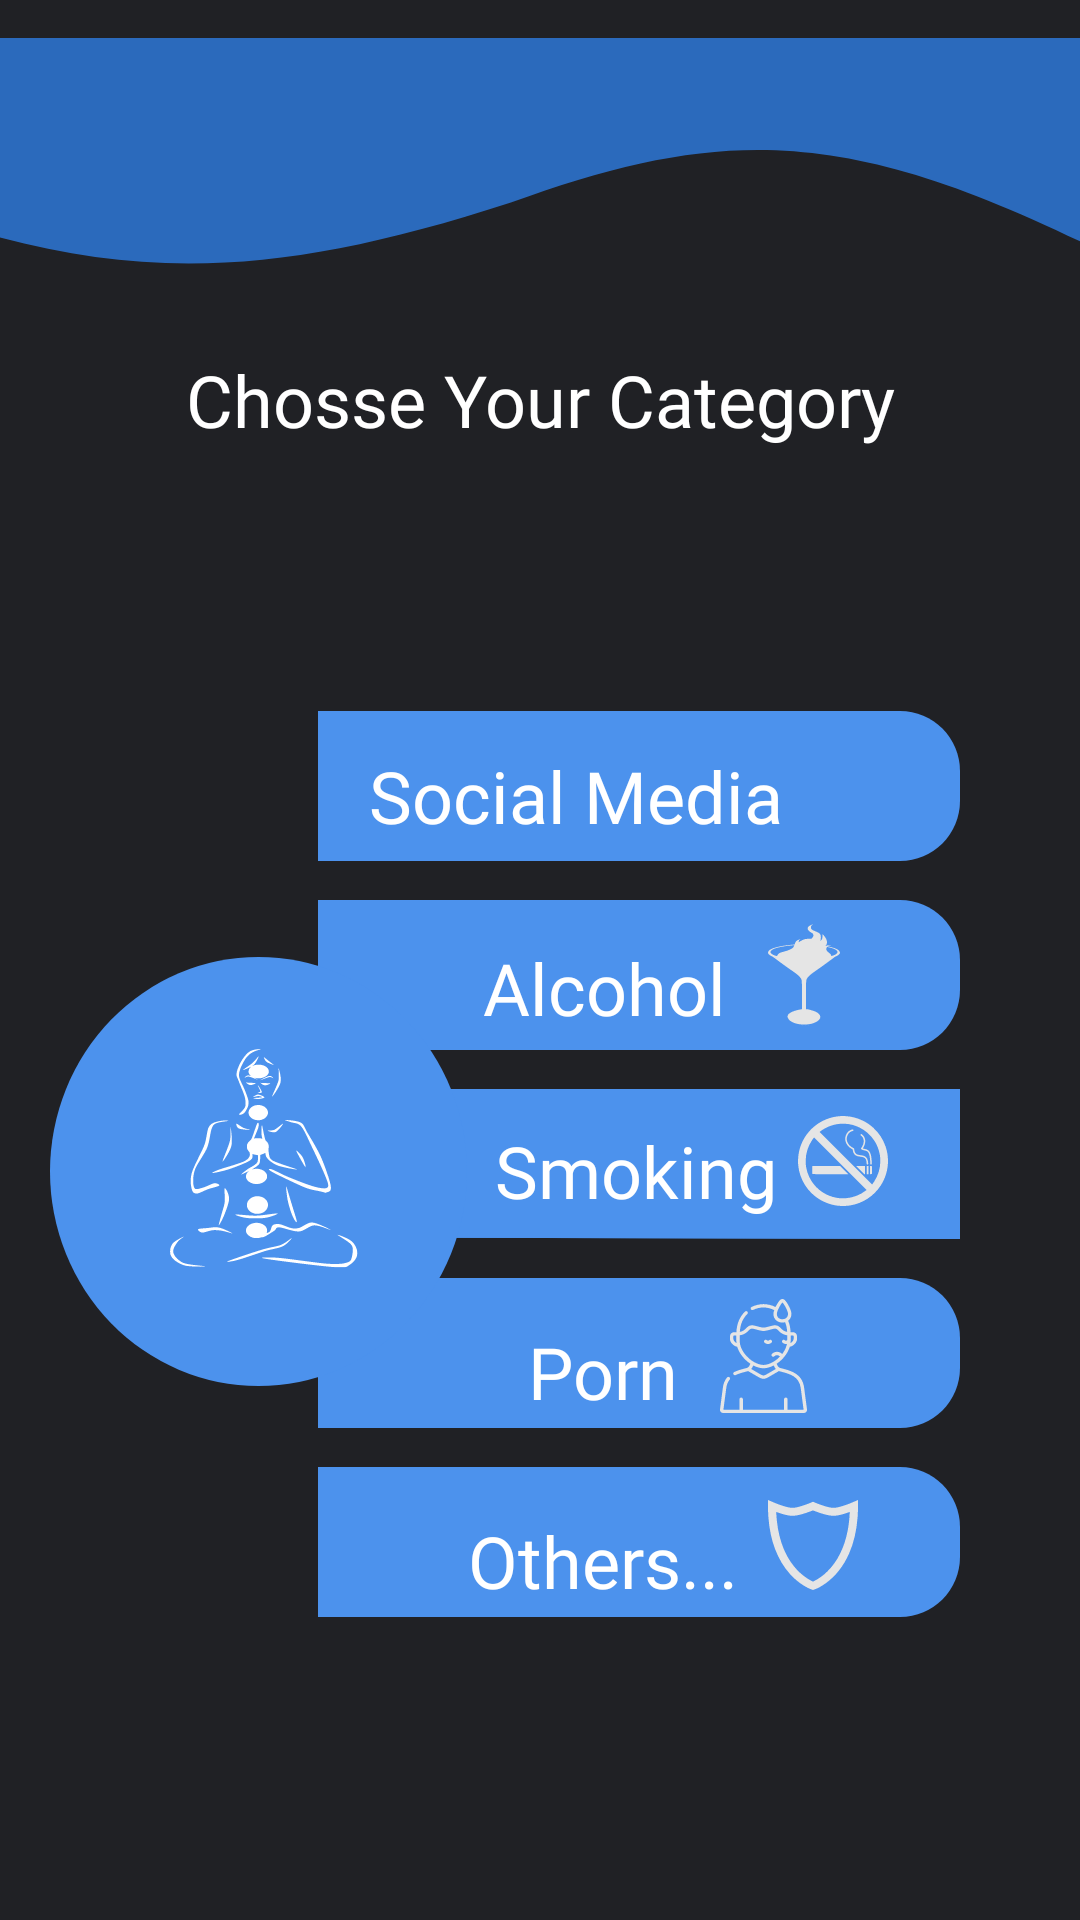

Named icons in this screenshot (1080x1920) and their centers, (x=x, y=y):
nosmokin: (x=843, y=1161)
